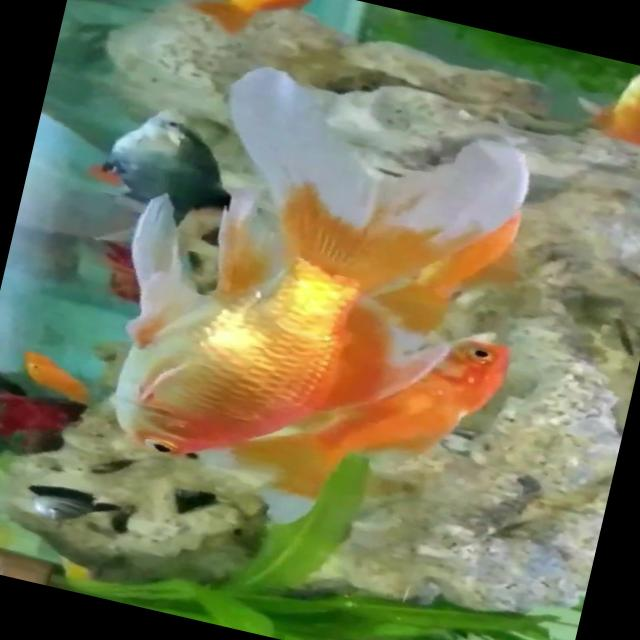GoldFish: (70, 42, 534, 528), (245, 294, 516, 536), (592, 59, 640, 159)
